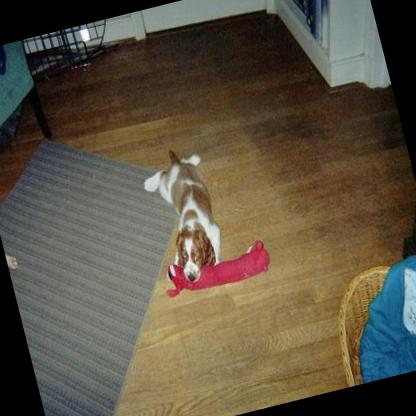Welsh_springer_spaniel: (135, 137, 234, 290)
